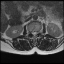CCS_normal: (33, 29, 35, 38)
LFS_normal: (37, 28, 39, 35)
LLS_normal: (35, 29, 37, 36)
RFS_stenosis: (29, 29, 31, 35)
RLS_normal: (31, 29, 33, 36)
